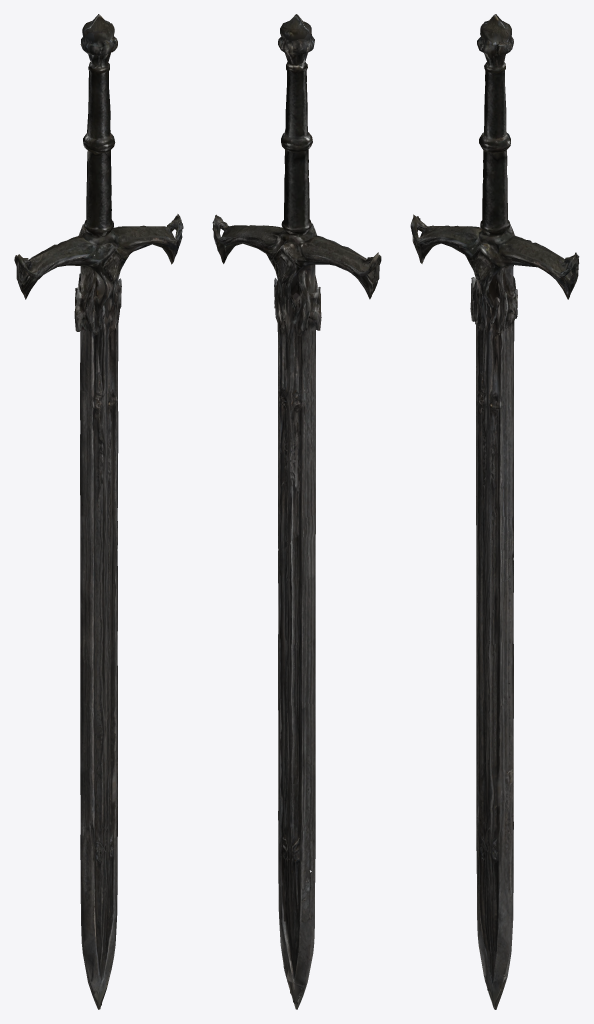
File: Knight_sword.glb
The picture shows the model from 3 angles, left to right: view 1: azimuth 30°, elevation 25°; view 2: azimuth 150°, elevation 25°; view 3: azimuth 330°, elevation 25°; orthographic projection.
Visible parts, largest first — view 1: YVO3D.obj; view 2: YVO3D.obj; view 3: YVO3D.obj.
Boxes of the visible parts, x1,y1,x2,y2 form: YVO3D.obj: [14, 14, 183, 1009]; YVO3D.obj: [212, 14, 381, 1009]; YVO3D.obj: [410, 14, 579, 1009].
Size of the model in its own units: 0.2226 by 1.28 by 0.0756.
1 material, 1 textured.
